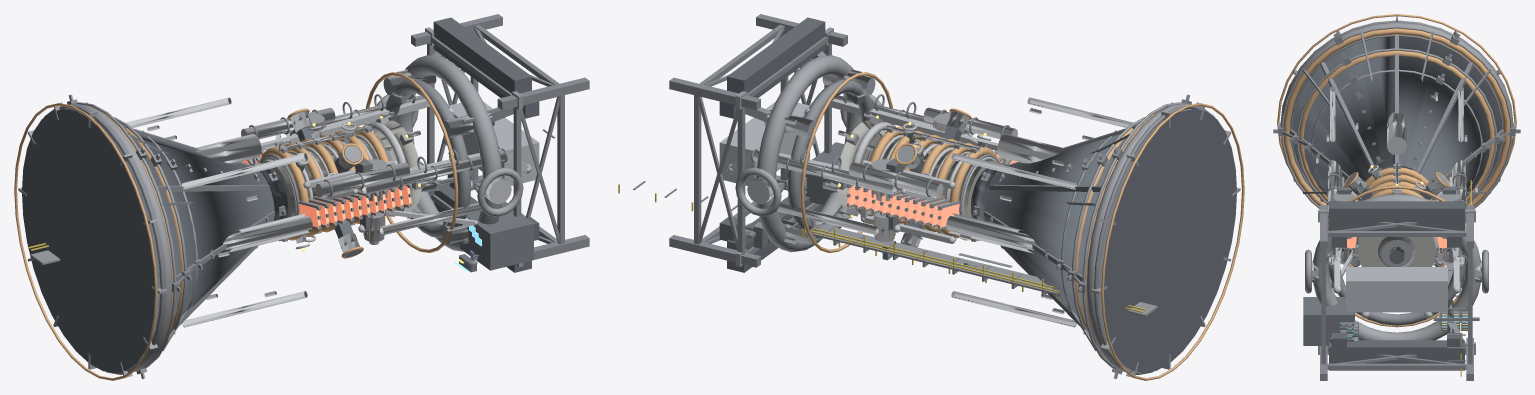
The model's file is dsx-04_propulsion_system.glb.
3 views of the same model, side by side, from view 1: azimuth 30°, elevation 25°; view 2: azimuth 150°, elevation 25°; view 3: azimuth 270°, elevation 25° (orthographic). The views are drawn at different scales.
Visible parts, largest first — view 1: PROP_Drive_MagneticNozzle, PROP_Drive_GimbalMount, PROP_Drive_FusionChamber, PROP_Drive_ThermalSystem, PROP_Drive_Turbopumps, PROP_Drive_ControlBay, PROP_Drive_InjectorAssembly; view 2: PROP_Drive_MagneticNozzle, PROP_Drive_GimbalMount, PROP_Drive_ThermalSystem, PROP_Drive_FusionChamber, PROP_Drive_Turbopumps, PROP_Drive_ServicePlatform, PROP_Drive_ControlBay, PROP_Drive_InjectorAssembly; view 3: PROP_Drive_MagneticNozzle, PROP_Drive_GimbalMount, PROP_Drive_Turbopumps, PROP_Drive_FusionChamber, PROP_Drive_ControlBay, PROP_Drive_ThermalSystem, PROP_Drive_InjectorAssembly, PROP_Drive_ServicePlatform.
Part boxes in pixels (x1,y1,x2,y2): PROP_Drive_MagneticNozzle: [14, 94, 312, 380]; PROP_Drive_GimbalMount: [364, 14, 589, 272]; PROP_Drive_FusionChamber: [252, 108, 421, 258]; PROP_Drive_ThermalSystem: [196, 93, 458, 229]; PROP_Drive_Turbopumps: [275, 95, 539, 244]; PROP_Drive_ControlBay: [384, 164, 533, 272]; PROP_Drive_InjectorAssembly: [367, 111, 433, 218]; PROP_Drive_MagneticNozzle: [946, 94, 1244, 380]; PROP_Drive_GimbalMount: [669, 14, 894, 272]; PROP_Drive_ThermalSystem: [800, 93, 1062, 243]; PROP_Drive_FusionChamber: [837, 108, 1006, 247]; PROP_Drive_Turbopumps: [719, 95, 982, 243]; PROP_Drive_ServicePlatform: [618, 181, 1157, 316]; PROP_Drive_ControlBay: [748, 142, 844, 248]; PROP_Drive_InjectorAssembly: [825, 111, 891, 218]; PROP_Drive_MagneticNozzle: [1273, 14, 1520, 208]; PROP_Drive_GimbalMount: [1305, 185, 1488, 380]; PROP_Drive_Turbopumps: [1326, 186, 1467, 312]; PROP_Drive_FusionChamber: [1344, 163, 1449, 266]; PROP_Drive_ControlBay: [1303, 252, 1479, 345]; PROP_Drive_ThermalSystem: [1326, 112, 1467, 265]; PROP_Drive_InjectorAssembly: [1351, 237, 1442, 266]; PROP_Drive_ServicePlatform: [1446, 180, 1471, 376].
Bounding box in the file's own units: 60.66 × 28.18 × 29.05.
